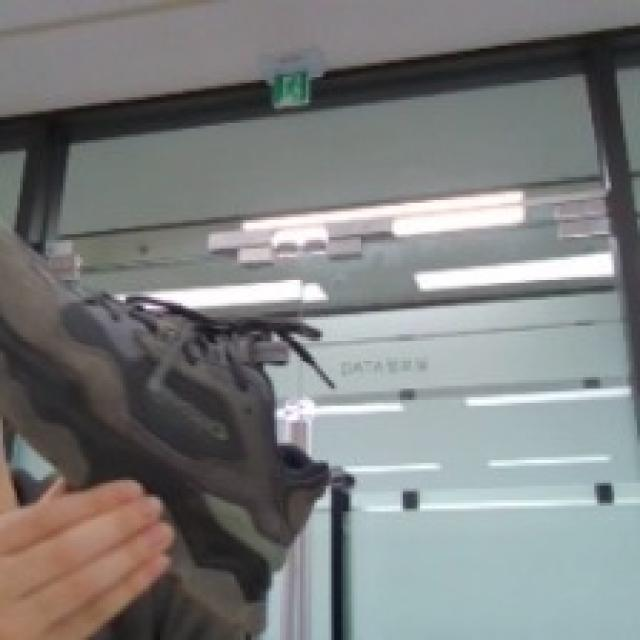shoe: (0, 178, 334, 640)
